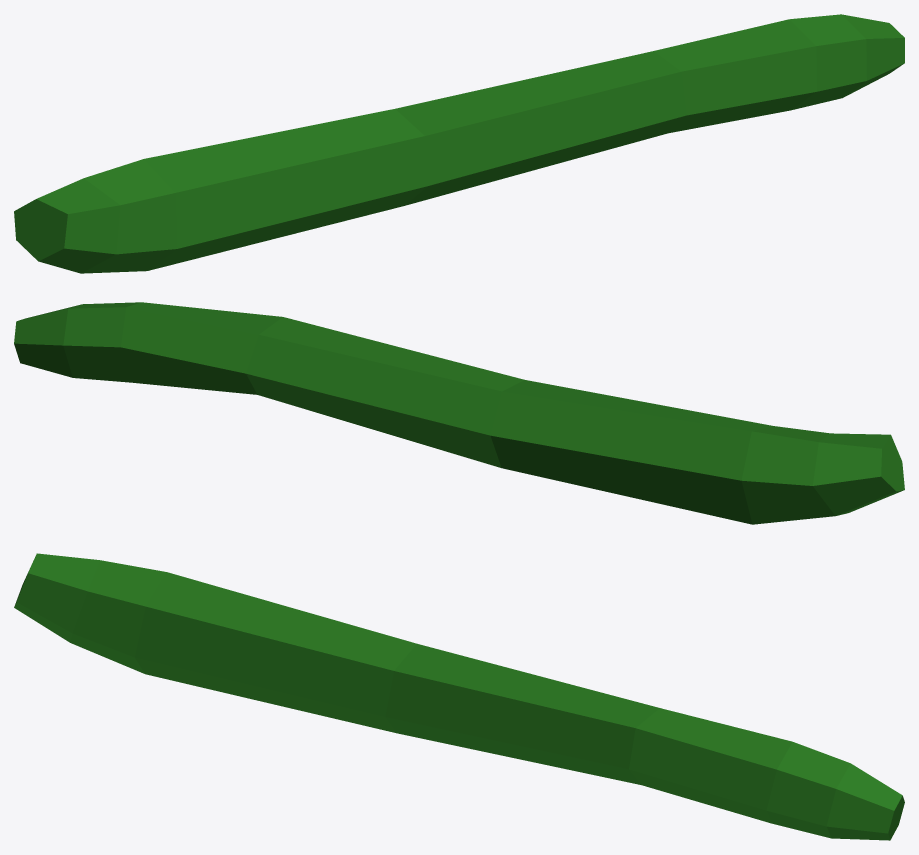
File: Cucumber_ani.fbx
The picture shows the model from 3 angles, top to bottom: view 1: azimuth 30°, elevation 25°; view 2: azimuth 150°, elevation 25°; view 3: azimuth 330°, elevation 25°; orthographic projection. The views are drawn at different scales.
Visible parts, largest first — view 1: Cylinder.001; view 2: Cylinder.001; view 3: Cylinder.001.
Part boxes in pixels (box(x1,y1,x2,y2)): Cylinder.001: box(14, 14, 904, 273); Cylinder.001: box(14, 302, 904, 524); Cylinder.001: box(14, 553, 904, 840).
Bounding box in the file's own units: 1710 × 200 × 213.
